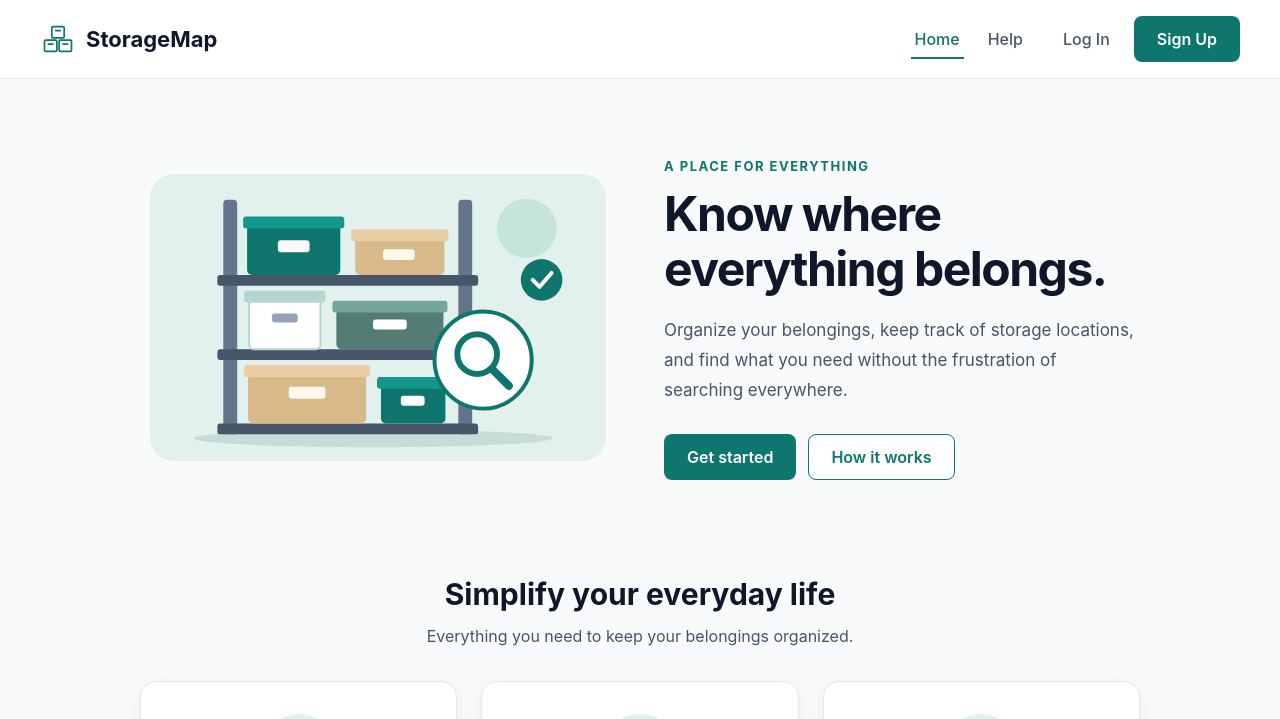
opens the Help page when How it works is clicked
Step 1. Click the button "How it works" → (882, 457), box [808, 434, 955, 480]
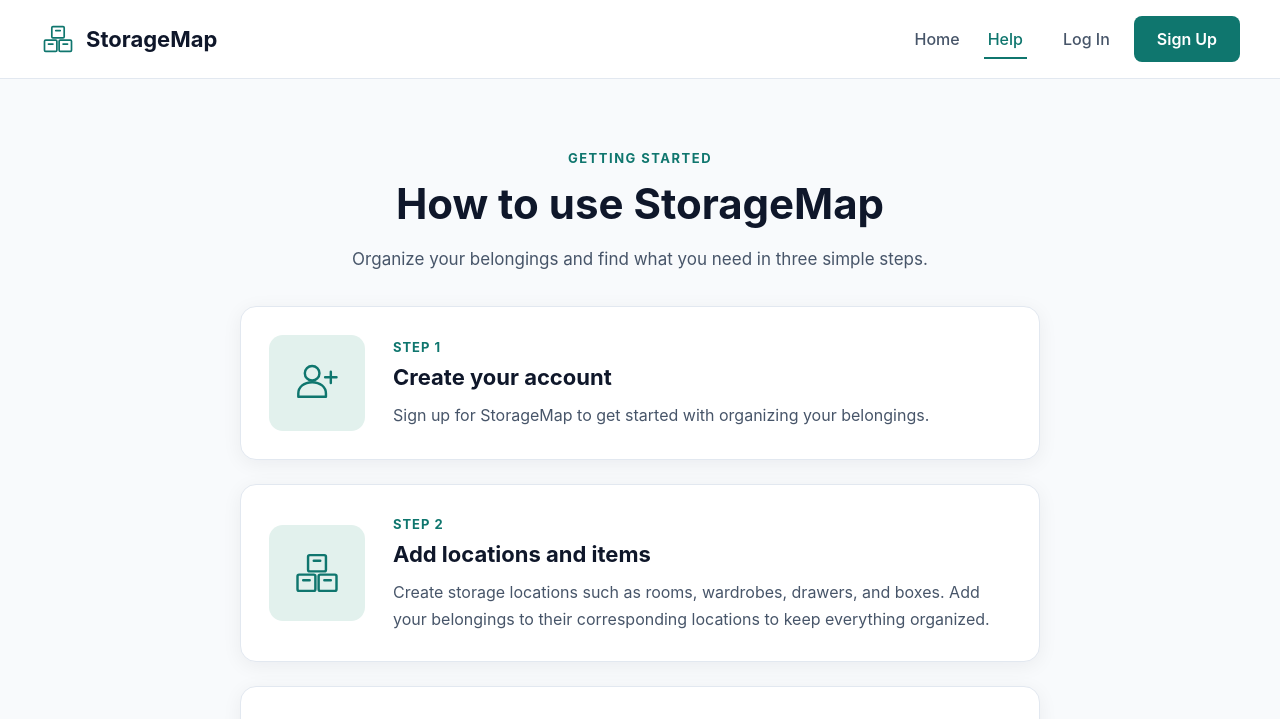
Result: the heading "How to use StorageMap" is shown at [396, 178, 884, 229]
